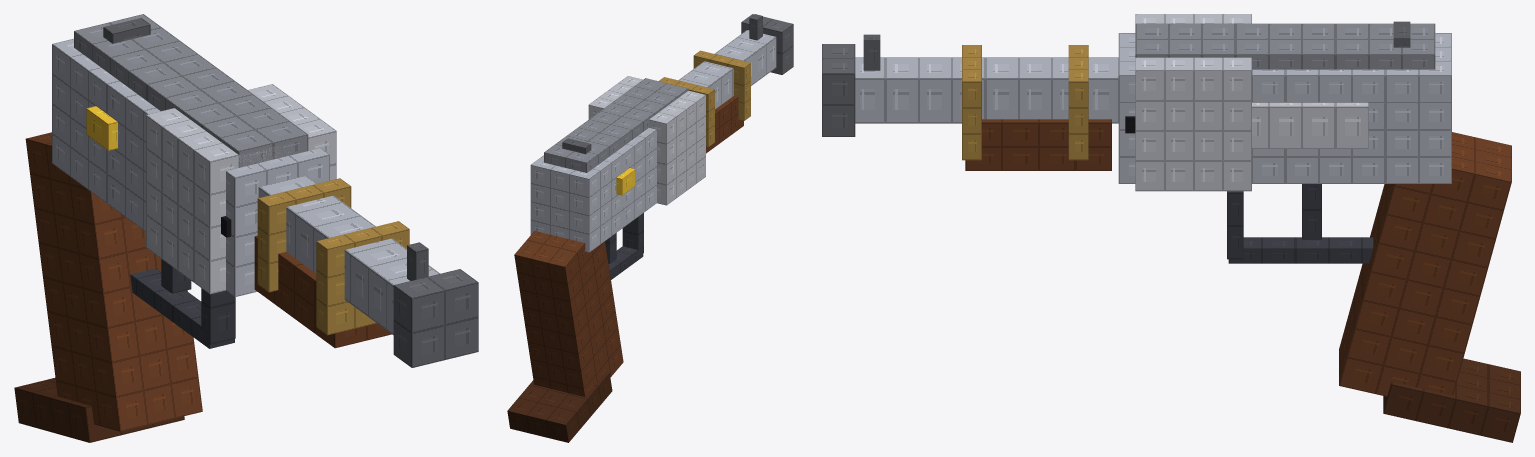
3 renders of one model, left to right at view 1: azimuth 30°, elevation 25°; view 2: azimuth 150°, elevation 25°; view 3: azimuth 270°, elevation 25°, orthographic. The views are drawn at different scales.
Parts seen in each view (by area): view 1: W11; view 2: W11; view 3: W11.
Part boxes in pixels (x1,y1,x2,y2): W11: [14, 14, 478, 442]; W11: [507, 14, 793, 442]; W11: [822, 14, 1520, 442].
Size of the model in its own units: 0.4 by 1.3 by 2.1.
Materials: 1 (1 with a texture image).
